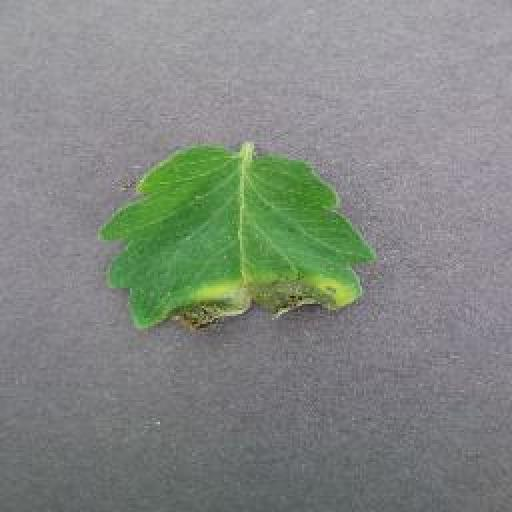Late Blight: (95, 142, 377, 342)
